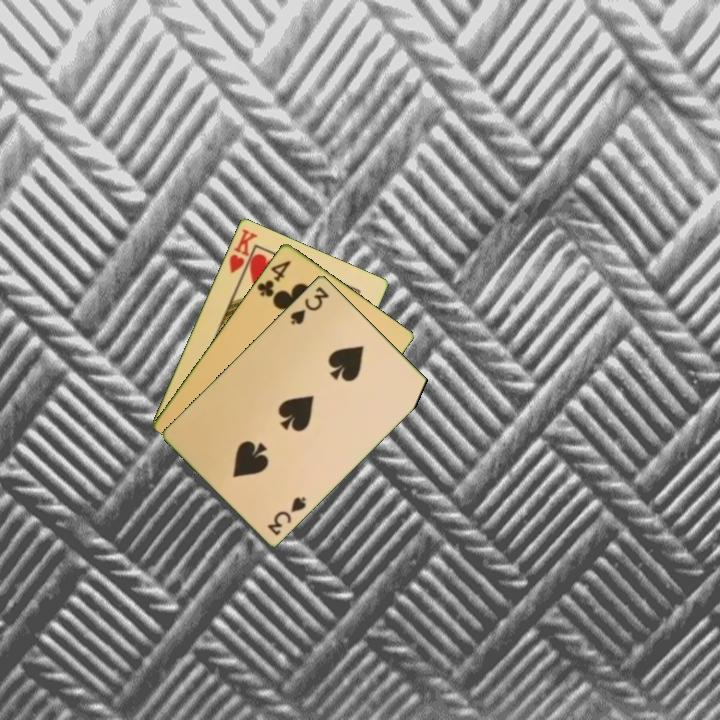3s: (264, 492, 309, 538), (287, 283, 332, 328)
4c: (253, 256, 294, 300)
Kh: (225, 225, 260, 283)
